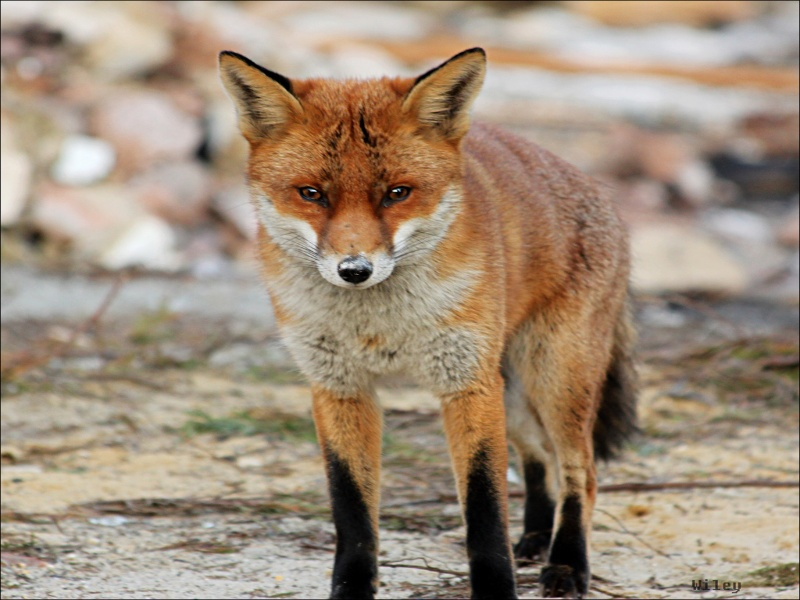fox: (210, 42, 647, 600)
